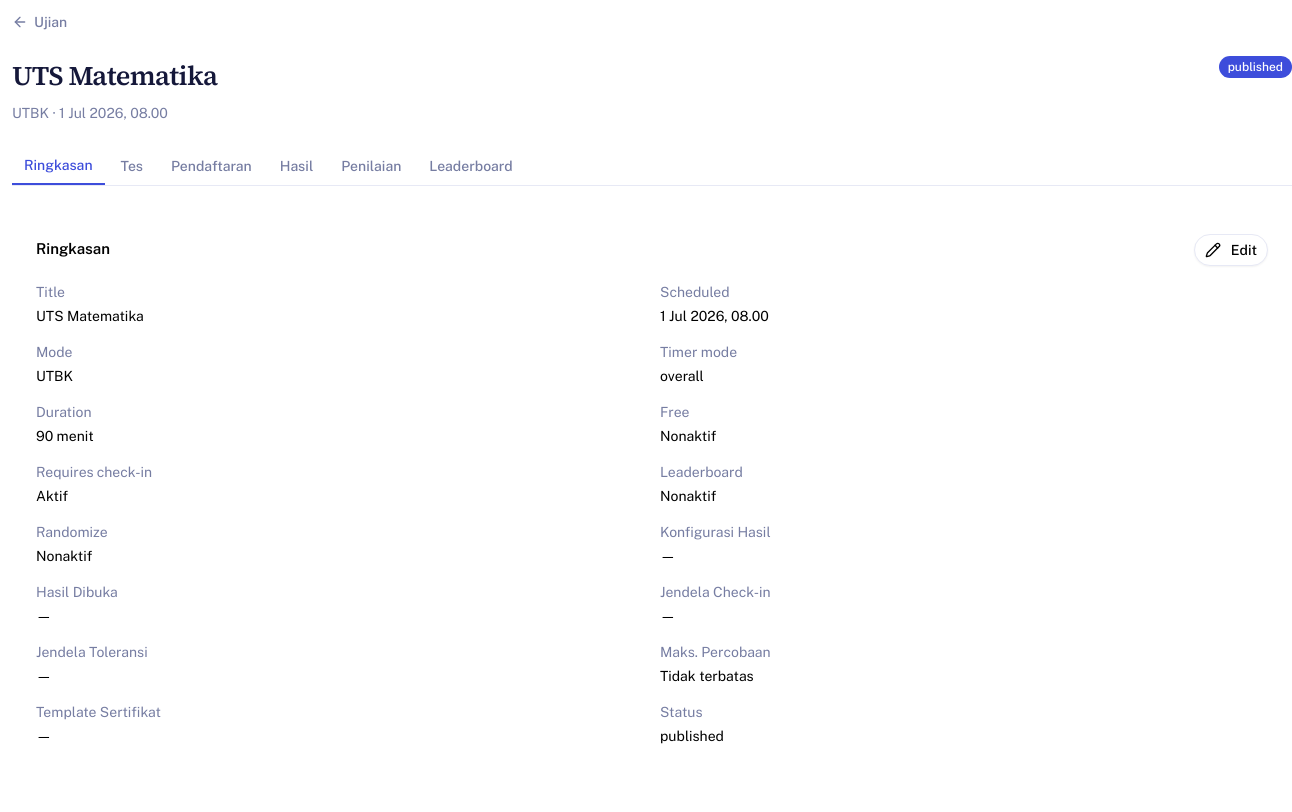
Test: ExamPackageDetailPage — preset buttons in tests tab › UTBK preset prefills four sections with typical durations
The width and height of the screenshot is (1292, 812).
Click the button "Tes".
click(132, 166)  # box [108,146,155,184]
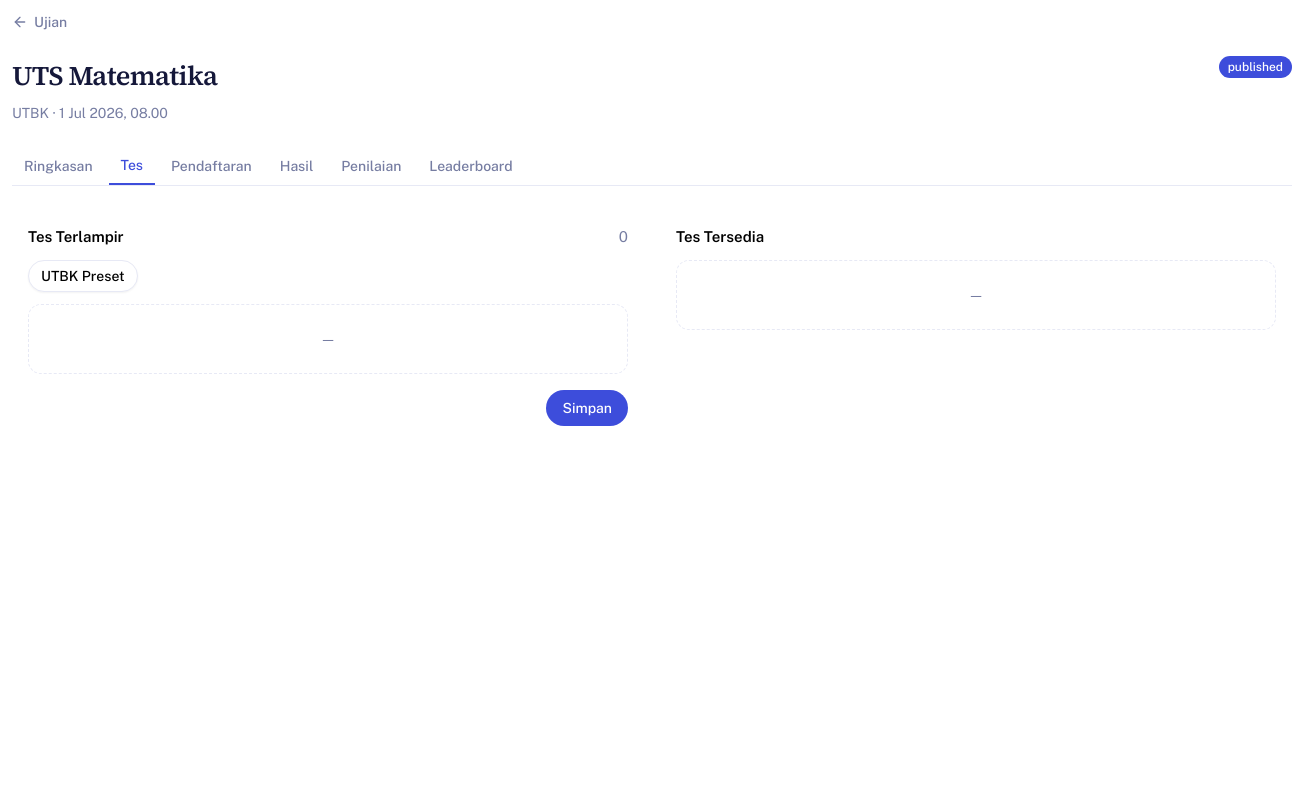
Now the button "UTBK Preset" is shown
Click the button "UTBK Preset".
click(83, 276)  # box [28,260,138,292]
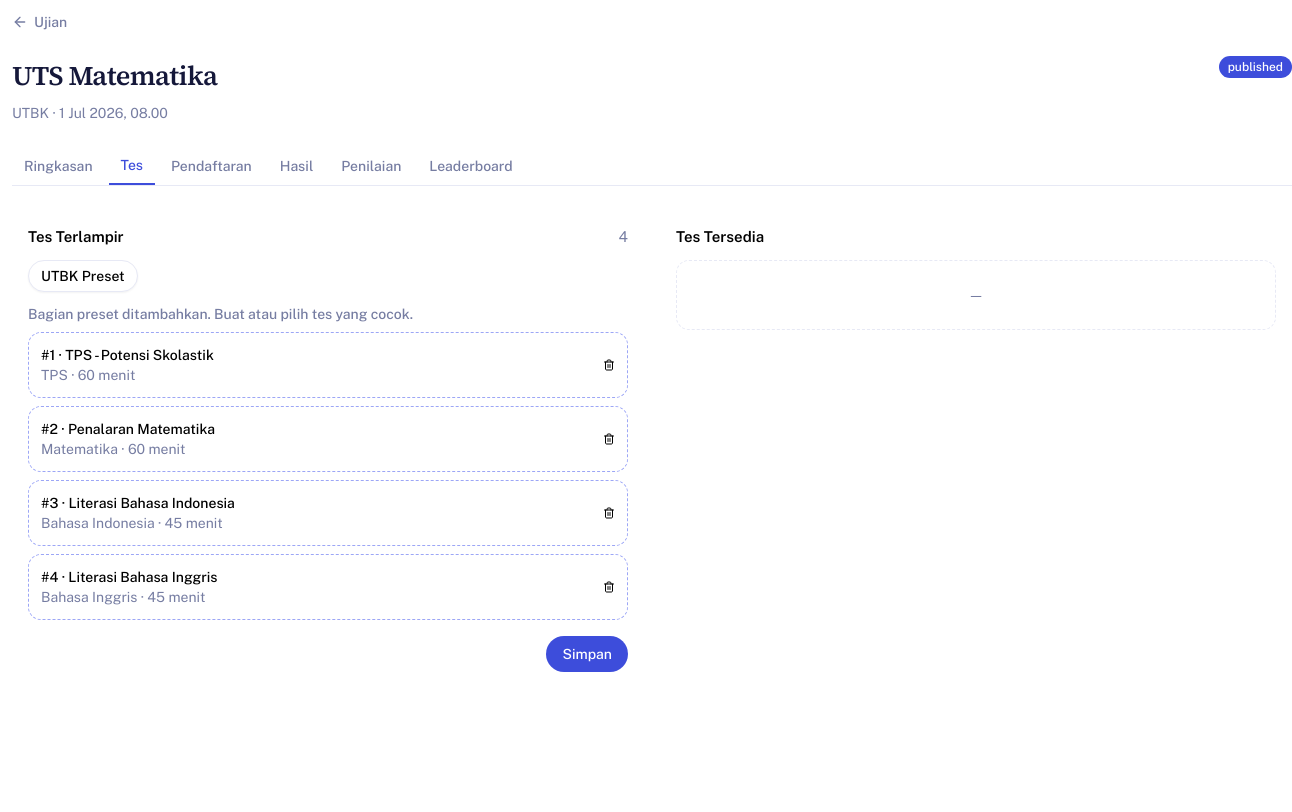
Now the text "#1 · TPS - Potensi Skolastik" is shown, box [41,345,214,365]
Now the text "#2 · Penalaran Matematika" is shown, box [41,419,215,439]
Now the text "#3 · Literasi Bahasa Indonesia" is shown, box [41,493,235,513]
